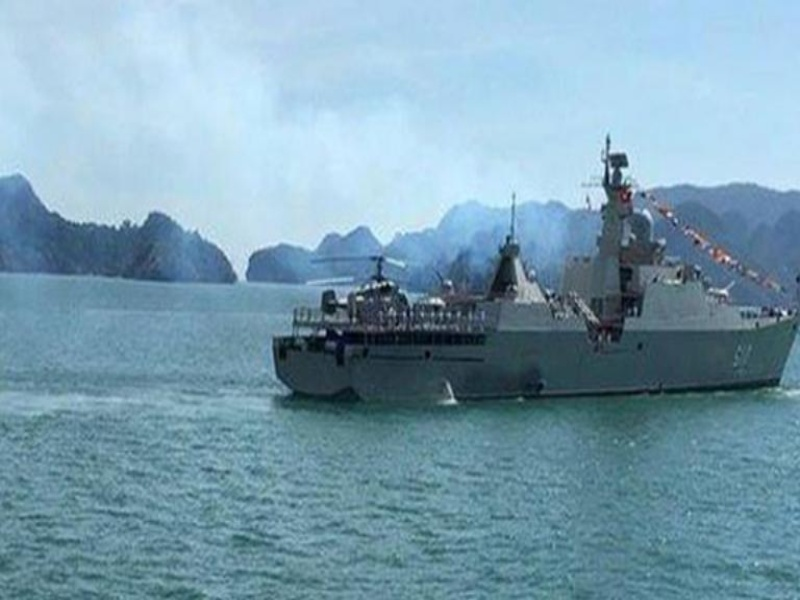cruise: (286, 217, 791, 404)
